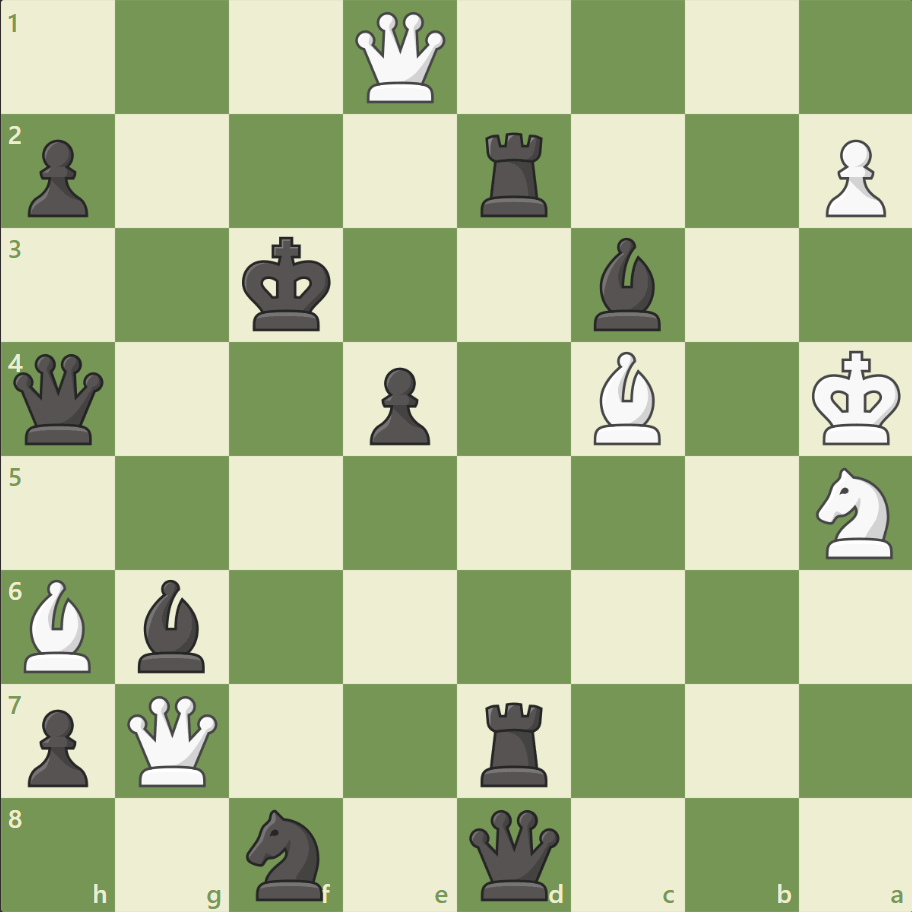B: (17, 574, 101, 676), (585, 347, 669, 449)
K: (806, 344, 906, 452)
N: (806, 461, 903, 564)
P: (815, 132, 889, 223)
Q: (124, 690, 223, 789), (351, 9, 450, 108)
b: (585, 233, 669, 336), (131, 574, 215, 676)
k: (238, 231, 338, 339)
n: (238, 802, 335, 904)
p: (20, 700, 95, 791), (20, 132, 95, 223), (361, 359, 435, 450)
q: (10, 349, 109, 449), (464, 804, 563, 903)
r: (473, 693, 556, 790), (473, 125, 556, 222)
